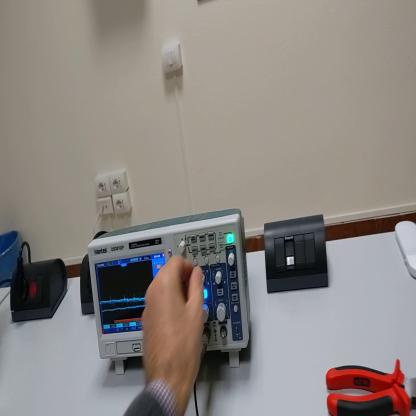hand: (140, 254, 206, 401)
oscilloscope: (89, 207, 252, 377)
pliers: (324, 358, 416, 414)
socket: (12, 252, 69, 323), (79, 254, 95, 317)
